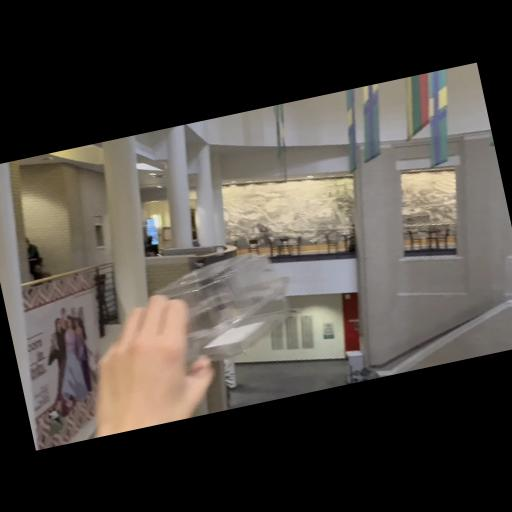small_plastic_container: (135, 244, 303, 374)
